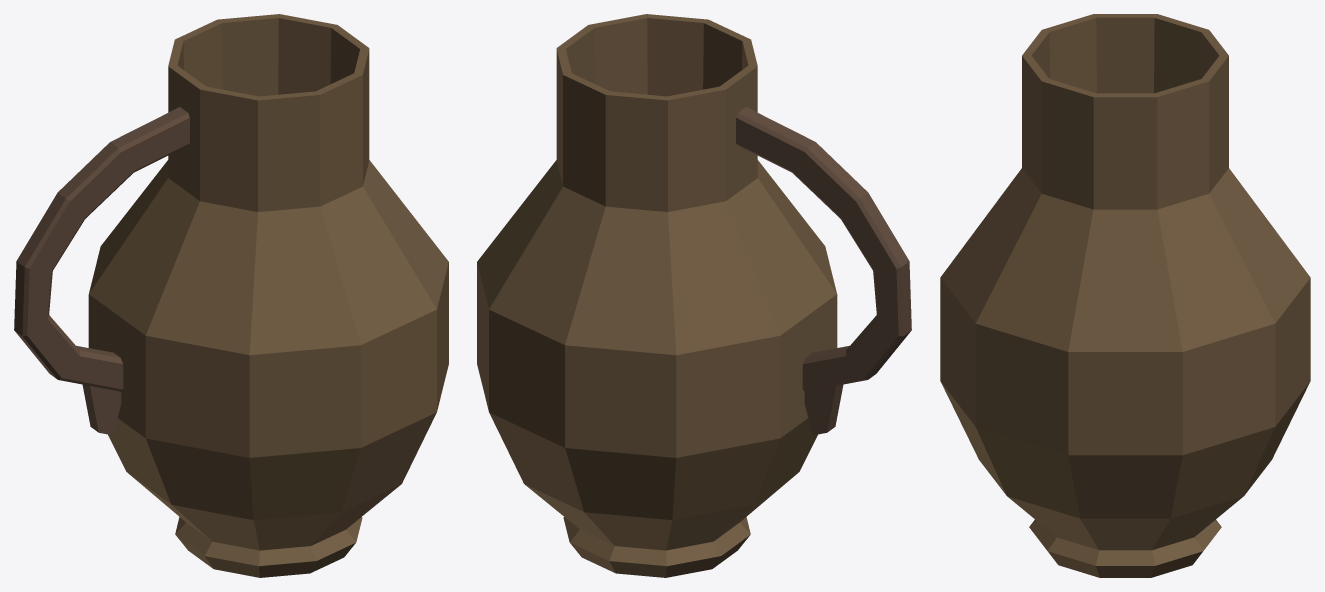
Rendered from Jug_1.fbx.
3 views of the same model, side by side, from view 1: azimuth 30°, elevation 25°; view 2: azimuth 150°, elevation 25°; view 3: azimuth 270°, elevation 25° (orthographic).
Parts seen in each view (by area): view 1: pCube2442; view 2: pCube2442; view 3: pCube2442.
Boxes of the visible parts, x1,y1,x2,y2 form: pCube2442: [14, 14, 448, 577]; pCube2442: [477, 14, 911, 577]; pCube2442: [940, 14, 1310, 577].
Bounding box in the file's own units: 35.74 × 41.61 × 28.33.
